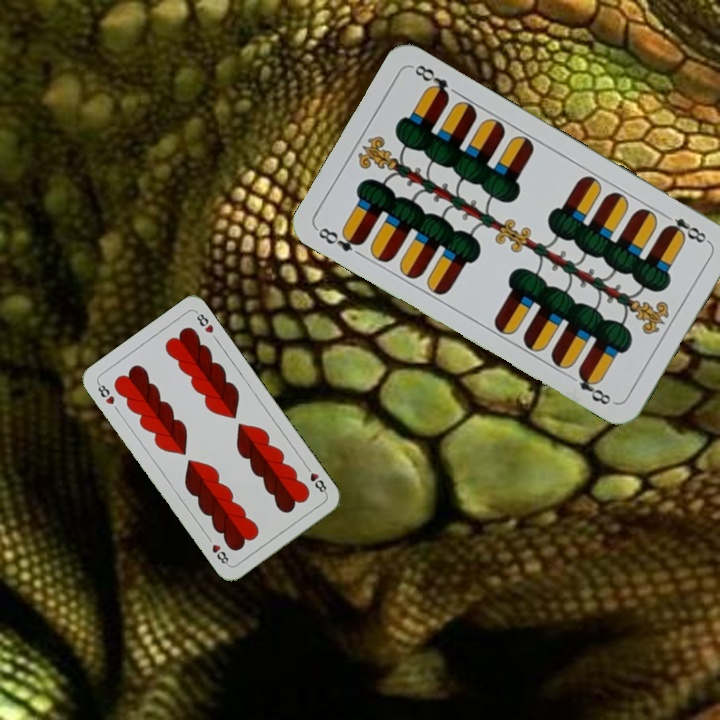E8: (658, 208, 712, 246), (313, 223, 367, 255)
H8: (301, 461, 329, 497), (93, 378, 117, 407)
